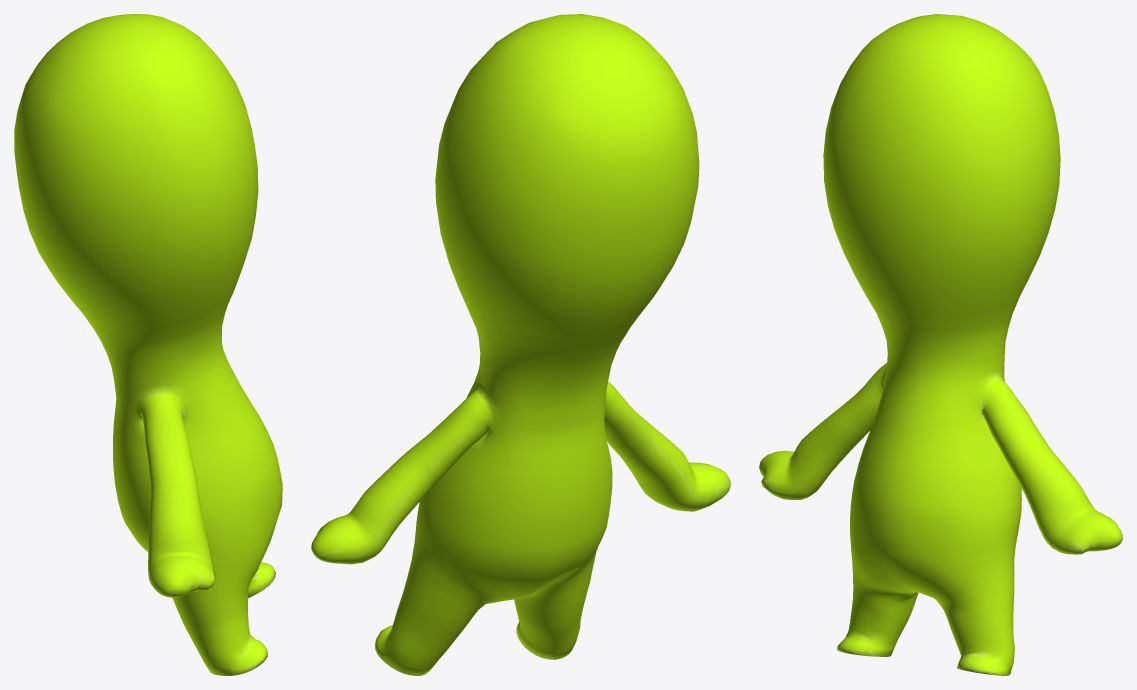
File: virtual player 1.fbx
3 renders of one model, left to right at view 1: azimuth 30°, elevation 25°; view 2: azimuth 150°, elevation 25°; view 3: azimuth 270°, elevation 25°, orthographic. The views are drawn at different scales.
Parts seen in each view (by area): view 1: node_id45; view 2: node_id45; view 3: node_id45.
Part boxes in pixels (bbox=[...]): node_id45: bbox=[14, 14, 282, 675]; node_id45: bbox=[311, 14, 730, 675]; node_id45: bbox=[759, 14, 1122, 675].
Size of the model in its own units: 0.2504 by 0.5595 by 0.3049.
Materials: 1 (1 with a texture image).
